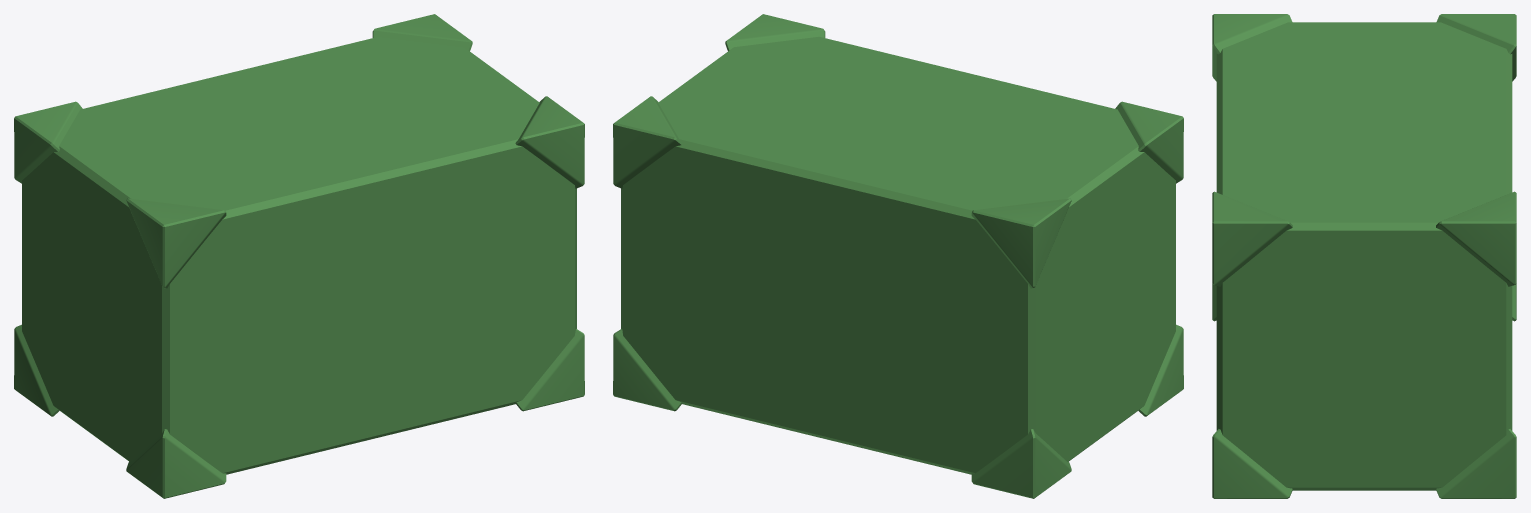
The model's file is Small_Boxe.fbx.
3 views of the same model, side by side, from view 1: azimuth 30°, elevation 25°; view 2: azimuth 150°, elevation 25°; view 3: azimuth 270°, elevation 25° (orthographic).
Visible parts, largest first — view 1: Small_Boxe; view 2: Small_Boxe; view 3: Small_Boxe.
Part boxes in pixels (x1,y1,x2,y2): Small_Boxe: (14, 14, 584, 498); Small_Boxe: (613, 14, 1183, 498); Small_Boxe: (1212, 14, 1516, 498).
Size of the model in its own units: 0.4845 by 0.3005 by 0.2984.
